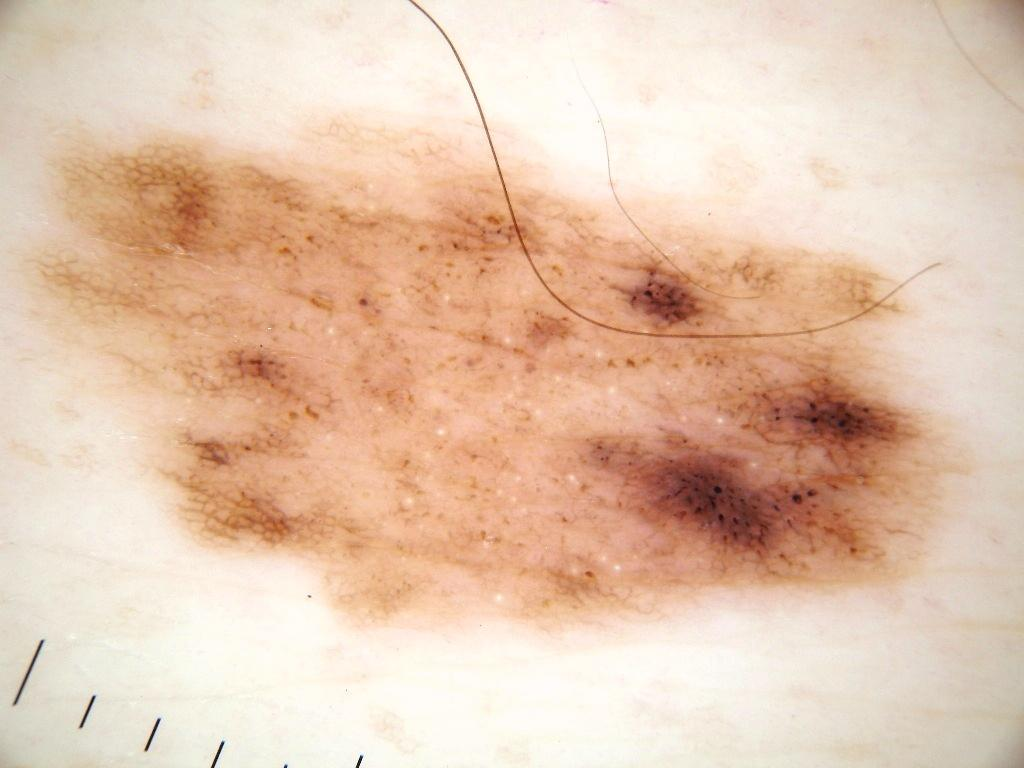Detected Lesion: (21, 105, 966, 658)
